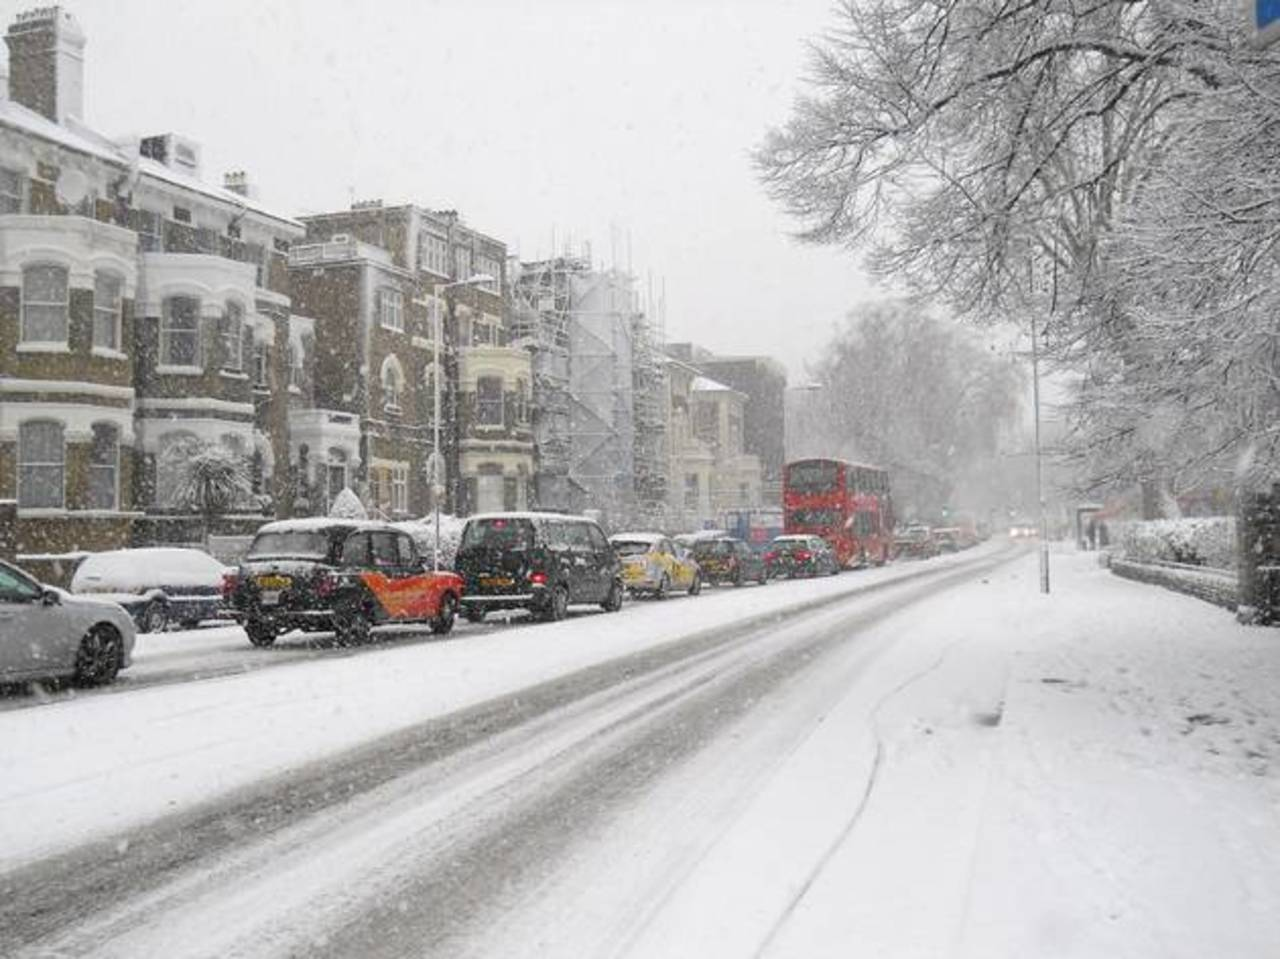bus: (780, 457, 889, 566)
car: (236, 517, 462, 645), (0, 549, 135, 701), (450, 511, 622, 625), (62, 548, 236, 632), (609, 533, 703, 600), (692, 532, 766, 584), (762, 534, 837, 581), (897, 523, 937, 553), (931, 527, 959, 554)
